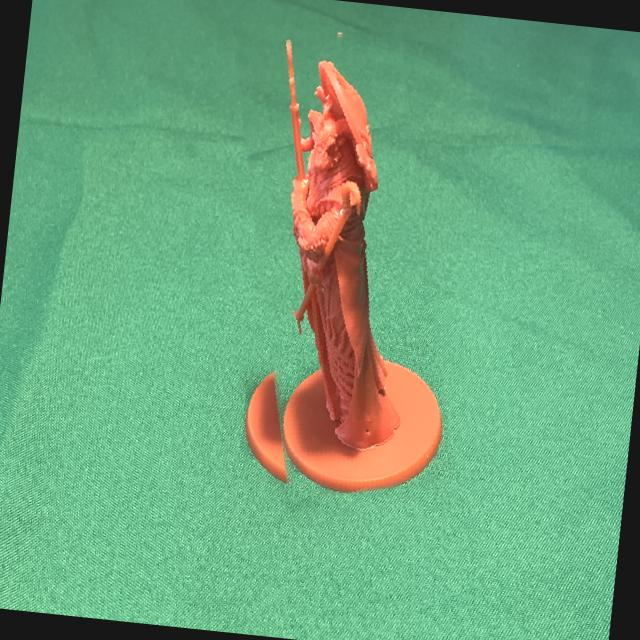amon: (211, 18, 477, 508)
